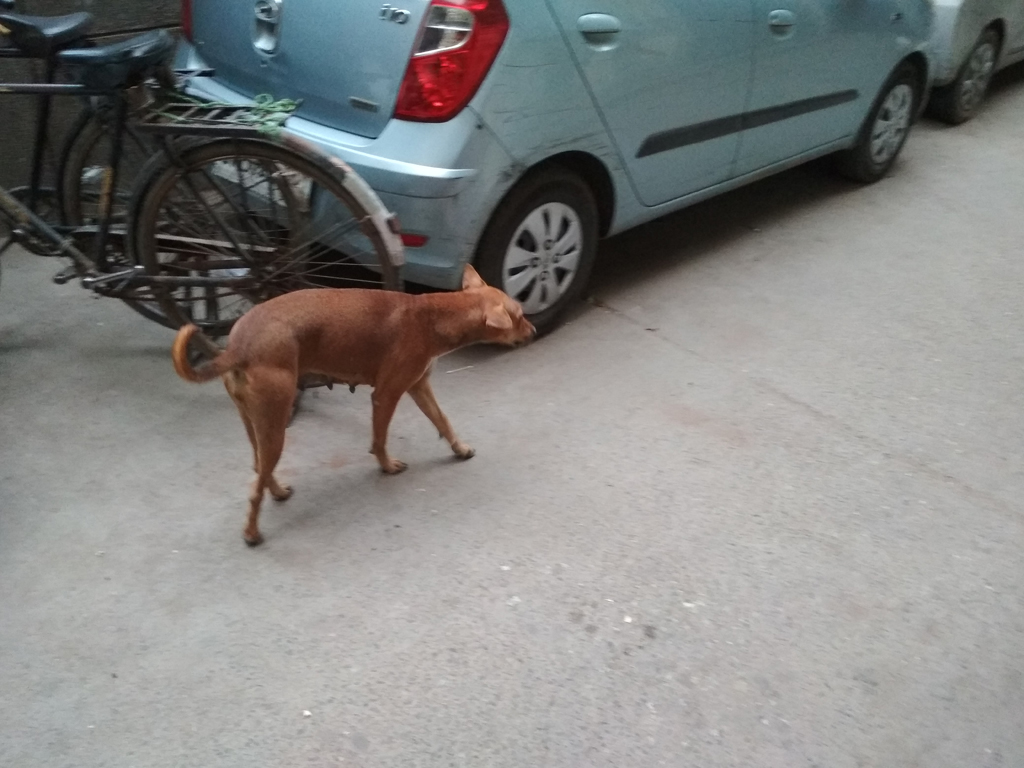dog: (172, 262, 539, 546)
